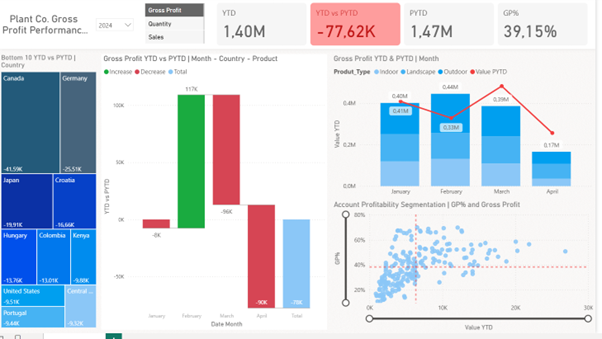

What the dashboard file says about the page in this screenshot:
{"tool":"powerbi","page":{"name":"Performance Report","canvas":[1280,720],"ordinal":0},"visuals":[{"type":"cardVisual","fields":{"Data":["_Measures.S_YTD","_Measures.YTD vs PYTD","_Measures.S_PYTD","_Measures.GP%"]},"box":[463,4.2,806.2,102.1],"z":0},{"type":"advancedSlicerVisual","fields":{"Values":["Slc_Values.Values"]},"box":[309.8,5.9,137.3,98],"z":1000},{"type":"slicer","fields":{"Values":["Dim_Date.Date.Variation.Date Hierarchy.Year"]},"box":[198.4,32.7,101.3,50.2],"z":2000},{"type":"treemap","title":"Bottom 10 YTD vs PYTD | Country","fields":{"Values":["_Measures.YTD vs PYTD"],"Group":["Dim_Account.country"]},"box":[0,118.7,214.6,594.4],"z":3000},{"type":"waterfallChart","fields":{"Y":["_Measures.YTD vs PYTD"],"Category":["Dim_Date.Date.Variation.Date Hierarchy.Month","Dim_Account.country","Dim_Product.Produt_Type","Dim_Product.Product_Name"]},"box":[220.3,119.6,485.2,593.5],"z":4000},{"type":"lineStackedColumnComboChart","fields":{"Y":["_Measures.S_YTD"],"Y2":["_Measures.S_PYTD"],"Category":["Dim_Date.Date.Variation.Date Hierarchy.Quarter","Dim_Date.Date.Variation.Date Hierarchy.Month"],"Series":["Dim_Product.Produt_Type"]},"box":[714.1,119.6,565.9,314.3],"z":5000},{"type":"scatterChart","fields":{"Y":["_Measures.GP%"],"X":["_Measures.S_YTD"],"Category":["Dim_Account.Account"]},"box":[714.1,433.9,565.9,285.8],"z":6000},{"type":"card","fields":{"Values":["_Measures._Report title"]},"box":[0,20.9,198.5,68.4],"z":7000}]}

Visuals, with their boxes in screenshot pixels (x1, y1, x2, y2), scaled from the page's 1280x720 canvas onto the 602x339 screenshot:
cardVisual - _Measures.S_YTD x _Measures.YTD vs PYTD: Rect(218, 2, 597, 50)
advancedSlicerVisual - Slc_Values.Values: Rect(146, 3, 210, 49)
slicer - Dim_Date.Date.Variation.Date Hierarchy.Year: Rect(93, 15, 141, 39)
"Bottom 10 YTD vs PYTD | Country" treemap: Rect(0, 56, 101, 336)
waterfallChart - _Measures.YTD vs PYTD x Dim_Date.Date.Variation.Date Hierarchy.Month: Rect(104, 56, 332, 336)
lineStackedColumnComboChart - _Measures.S_YTD x _Measures.S_PYTD: Rect(336, 56, 601, 204)
scatterChart - _Measures.GP% x _Measures.S_YTD: Rect(336, 204, 601, 338)
card - _Measures._Report title: Rect(0, 10, 93, 42)
